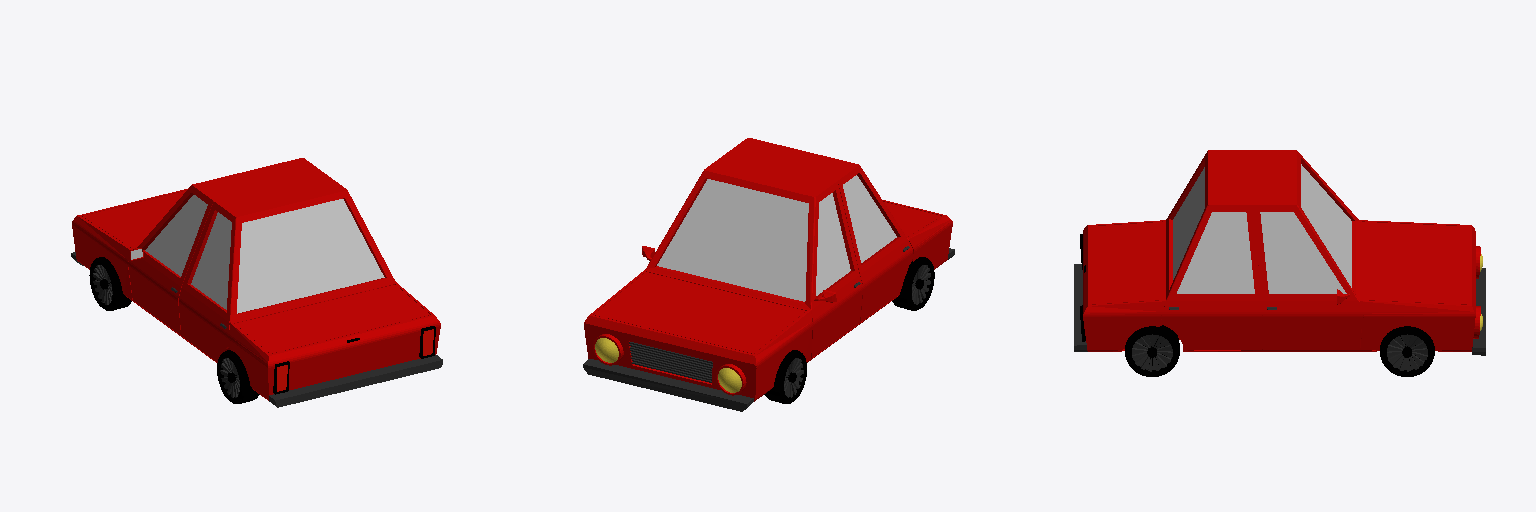
File: Car_Low_Poly.obj
The picture shows the model from 3 angles: view 1: azimuth 30°, elevation 25°; view 2: azimuth 150°, elevation 25°; view 3: azimuth 270°, elevation 25°; orthographic projection.
Parts seen in each view (by area): view 1: BoodyCar, BackCrash, BackWhiles, While-L-F, LightBack; view 2: BoodyCar, FrontCrash, LightFront, BackWhiles, While-L-F; view 3: BoodyCar, BackWhiles, While-R-F, BackCrash, FrontCrash.
Part boxes in pixels (left/top/right/bottom): BoodyCar: left=72, top=158, right=440, bottom=400; BackCrash: left=269, top=355, right=442, bottom=407; BackWhiles: left=217, top=350, right=259, bottom=403; While-L-F: left=89, top=257, right=131, bottom=310; LightBack: left=273, top=326, right=435, bottom=394; BoodyCar: left=584, top=138, right=952, bottom=401; FrontCrash: left=583, top=359, right=753, bottom=411; LightFront: left=593, top=334, right=746, bottom=395; BackWhiles: left=892, top=257, right=934, bottom=310; While-L-F: left=764, top=350, right=806, bottom=403; BoodyCar: left=1083, top=150, right=1475, bottom=351; BackWhiles: left=1125, top=325, right=1179, bottom=376; While-R-F: left=1380, top=326, right=1434, bottom=376; BackCrash: left=1074, top=264, right=1087, bottom=351; FrontCrash: left=1472, top=268, right=1485, bottom=355.
Size of the model in its own units: 4.89 by 3.79 by 9.03.